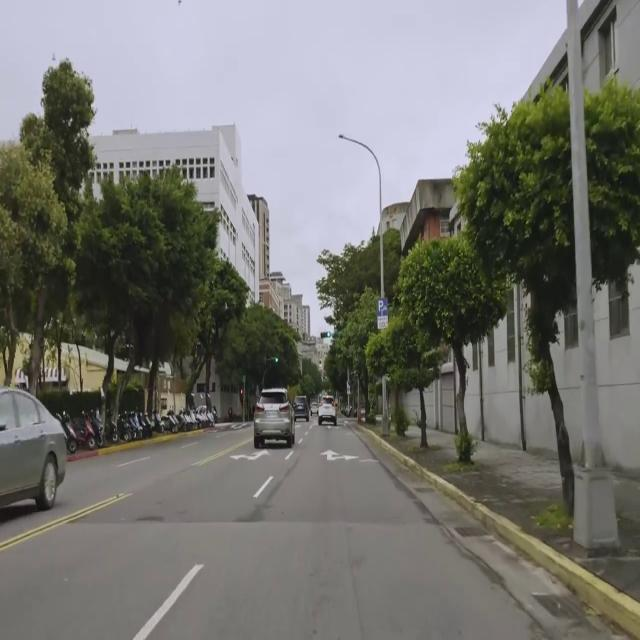green light: (270, 356, 279, 363), (321, 332, 331, 338)
